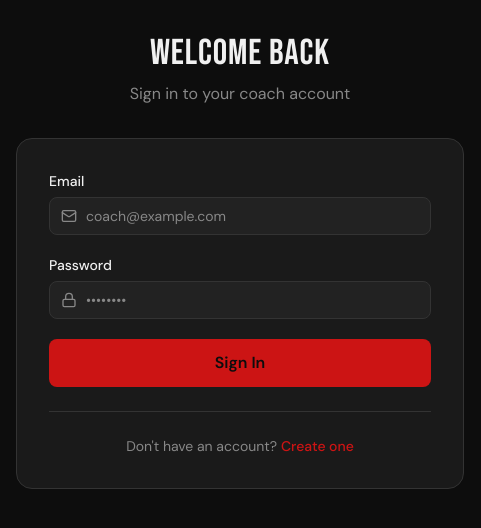
Test case: Login page › shows a validation error when submitted with an empty email
Click the button "Sign In" at (240, 362), box [49,338,431,386]
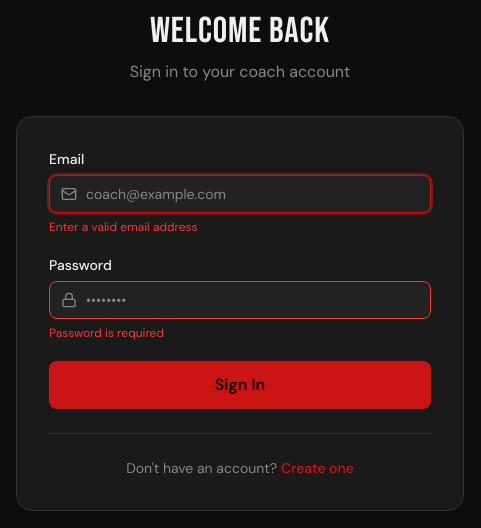
Result: the text "Enter a valid email address" is shown at [49,218,198,234]
